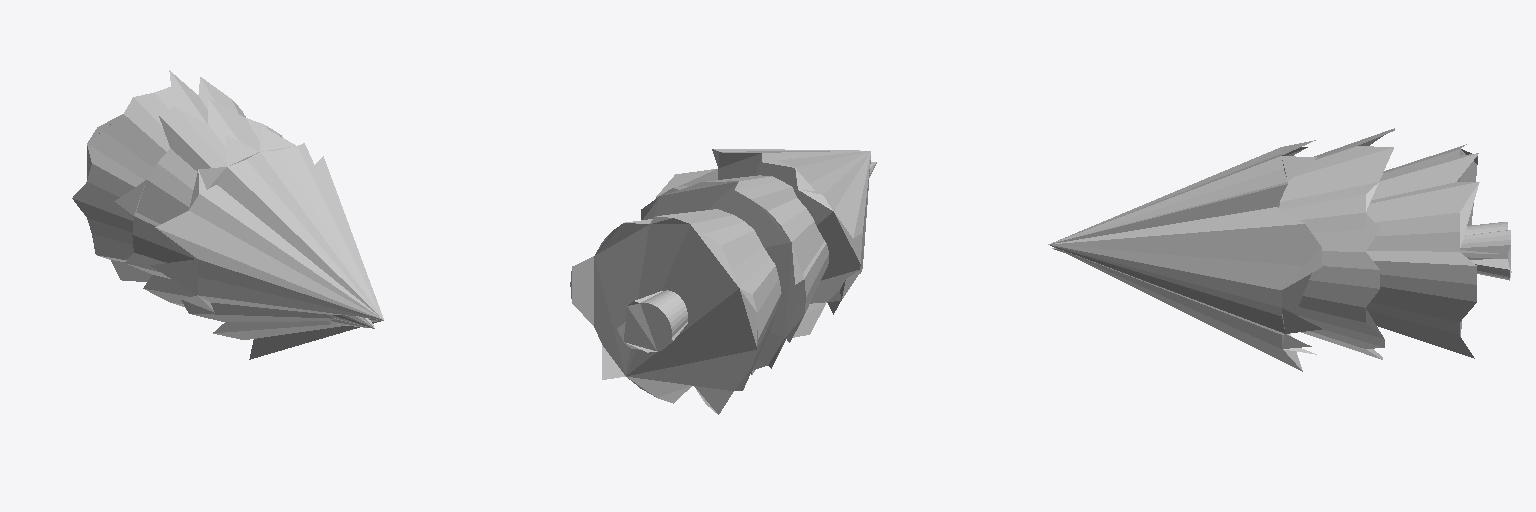
The model's file is ObjectFirTree.obj.
The picture shows the model from 3 angles: view 1: azimuth 30°, elevation 25°; view 2: azimuth 150°, elevation 25°; view 3: azimuth 270°, elevation 25°; orthographic projection.
Parts seen in each view (by area): view 1: Cone.002, Cone, Cone.001; view 2: Cone, Cone.002, Cone.001, Cylinder; view 3: Cone.002, Cone, Cone.001, Cylinder.
Part boxes in pixels (left/top/right/bottom): Cone.002: left=150, top=126, right=383, bottom=359; Cone: left=72, top=70, right=245, bottom=281; Cone.001: left=114, top=98, right=374, bottom=328; Cone: left=570, top=209, right=781, bottom=414; Cone.002: left=656, top=149, right=870, bottom=374; Cone.001: left=641, top=162, right=876, bottom=369; Cylinder: left=617, top=290, right=687, bottom=352; Cone.002: left=1048, top=140, right=1321, bottom=371; Cone: left=1366, top=144, right=1479, bottom=358; Cone.001: left=1052, top=128, right=1394, bottom=359; Cylinder: left=1460, top=222, right=1511, bottom=280.
Bounding box in the file's own units: 4.17 × 4.57 × 8.45.